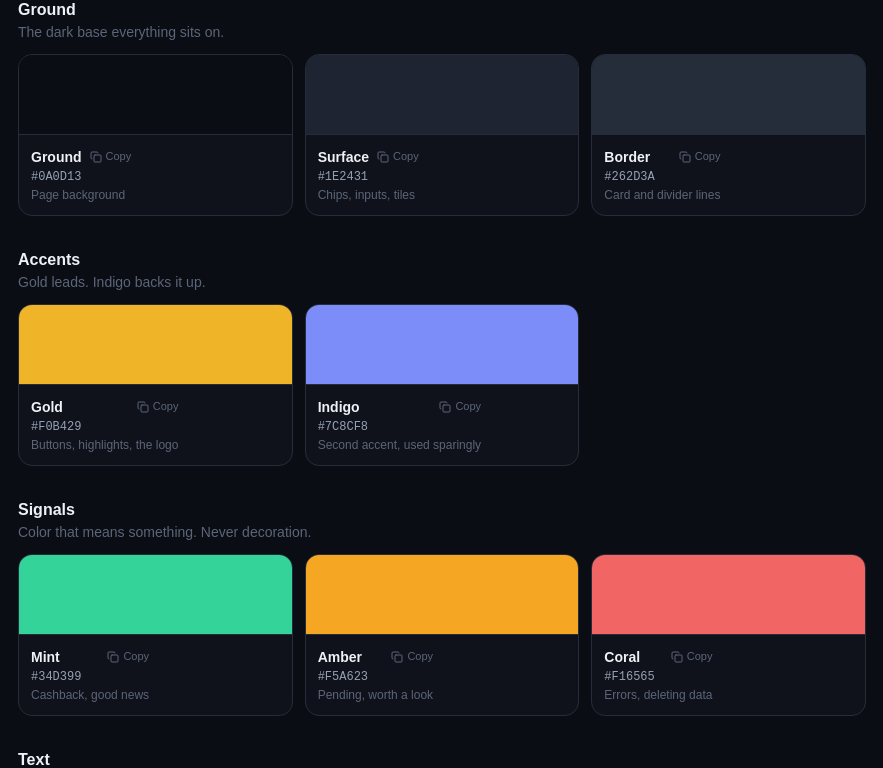
it: BrandPage › copies a color's hex code when its swatch is clicked
The image size is (883, 768).
(page scrolled)
Click the button with aria-label "Copy Gold, #f0b429".
click(155, 385)  # box [18, 304, 293, 466]
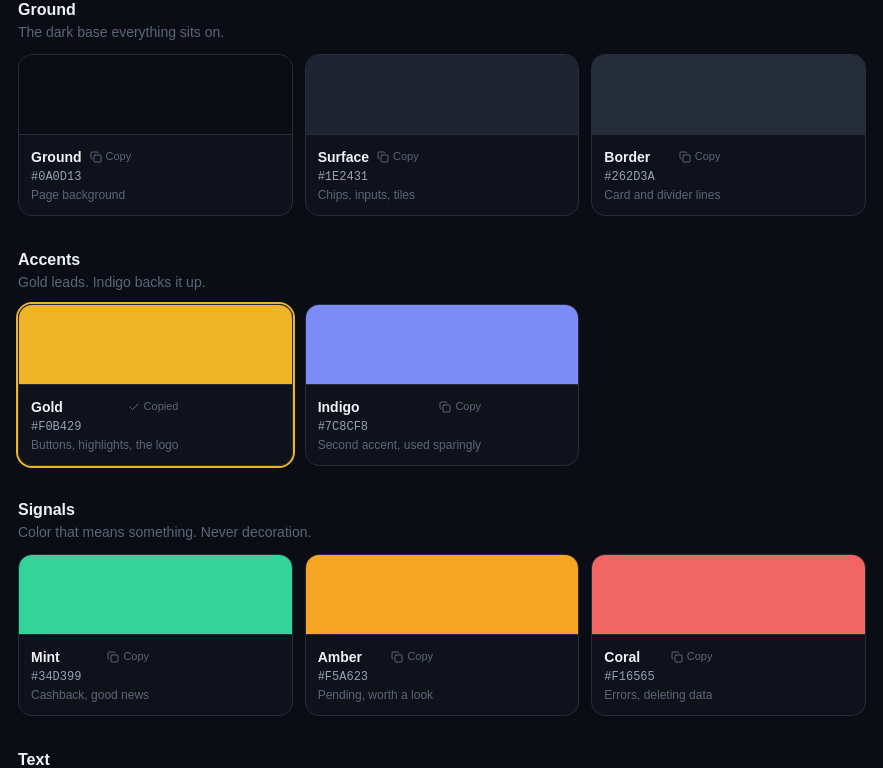
Expected: the text "Copied" is shown, [128, 398, 178, 415]
